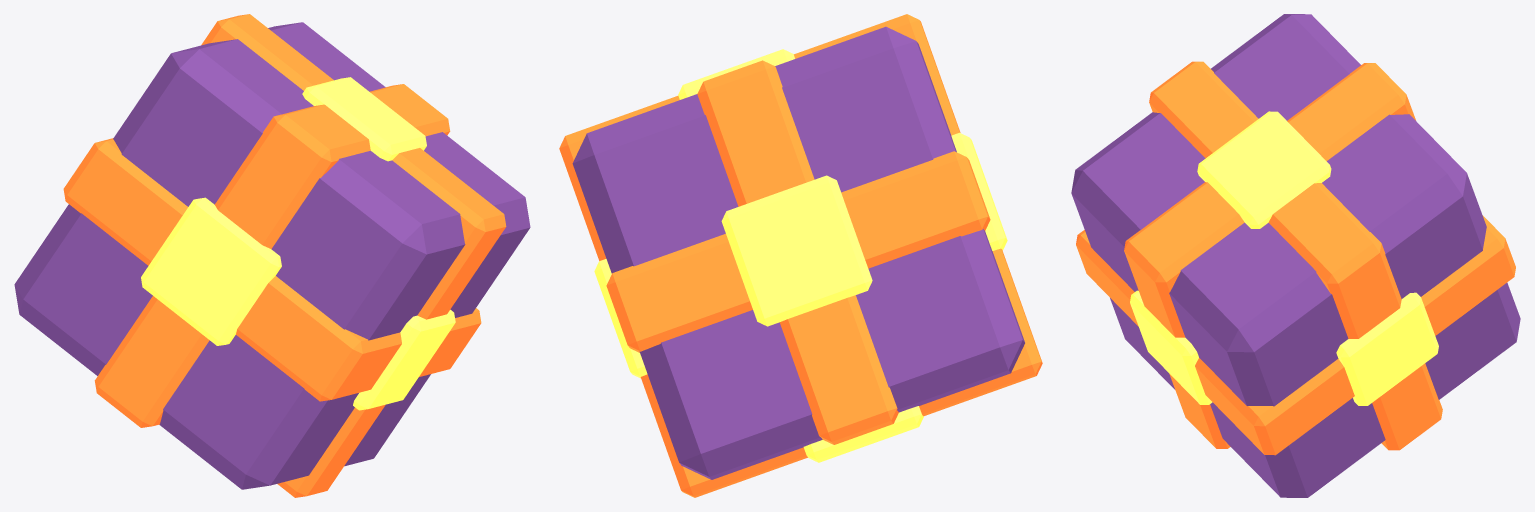
File: infortux_data_packet.glb
3 views of the same model, side by side, from view 1: azimuth 30°, elevation 25°; view 2: azimuth 150°, elevation 25°; view 3: azimuth 270°, elevation 25° (orthographic). The views are drawn at different scales.
Parts seen in each view (by area): view 1: Infortux_DataPacket; view 2: Infortux_DataPacket; view 3: Infortux_DataPacket.
Boxes of the visible parts, x1=… form: Infortux_DataPacket: x1=14, y1=14, x2=530, y2=497; Infortux_DataPacket: x1=559, y1=14, x2=1042, y2=497; Infortux_DataPacket: x1=1071, y1=14, x2=1520, y2=497.
Bounding box in the file's own units: 2.89 × 2.77 × 2.72.
